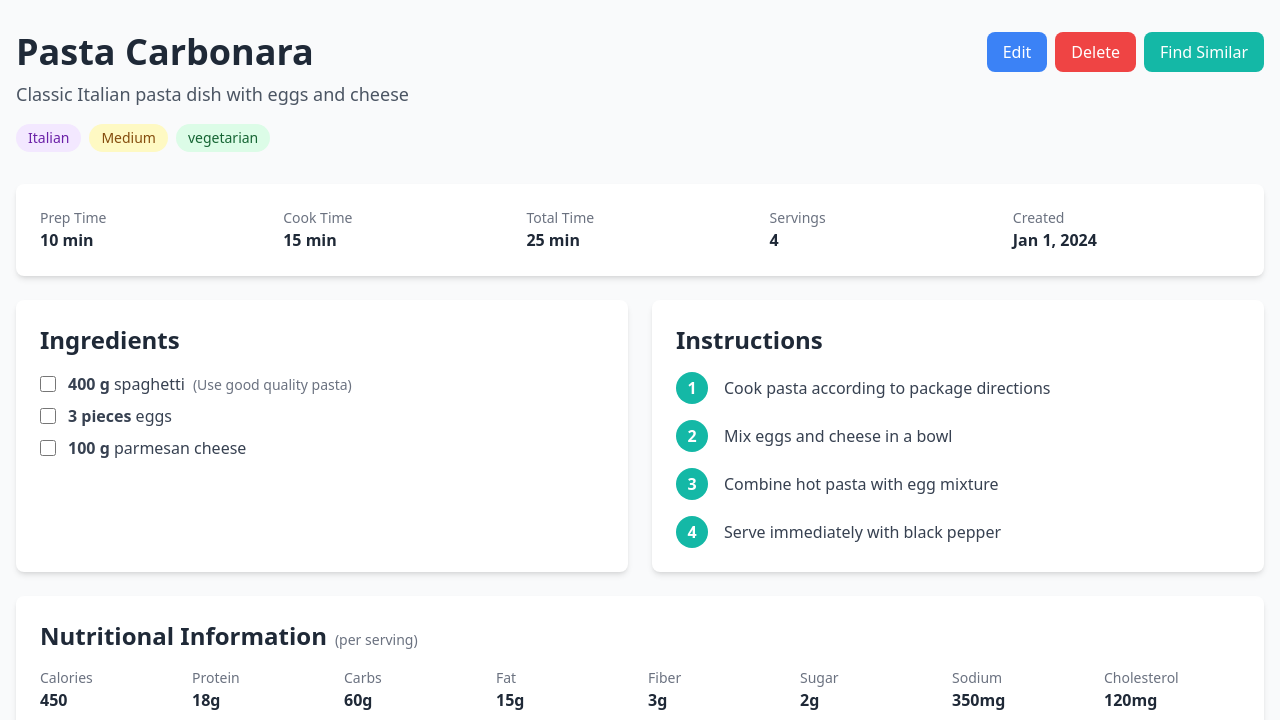
it: RecipeDetailPage › Delete Functionality › should close modal when cancel button clicked
This screenshot has width=1280, height=720.
expect the heading "Pasta Carbonara" is shown: met, box [16,27,314,76]
# Open modal
Step 1. Click the button "Delete" → (1096, 52), box [1055,32,1136,72]
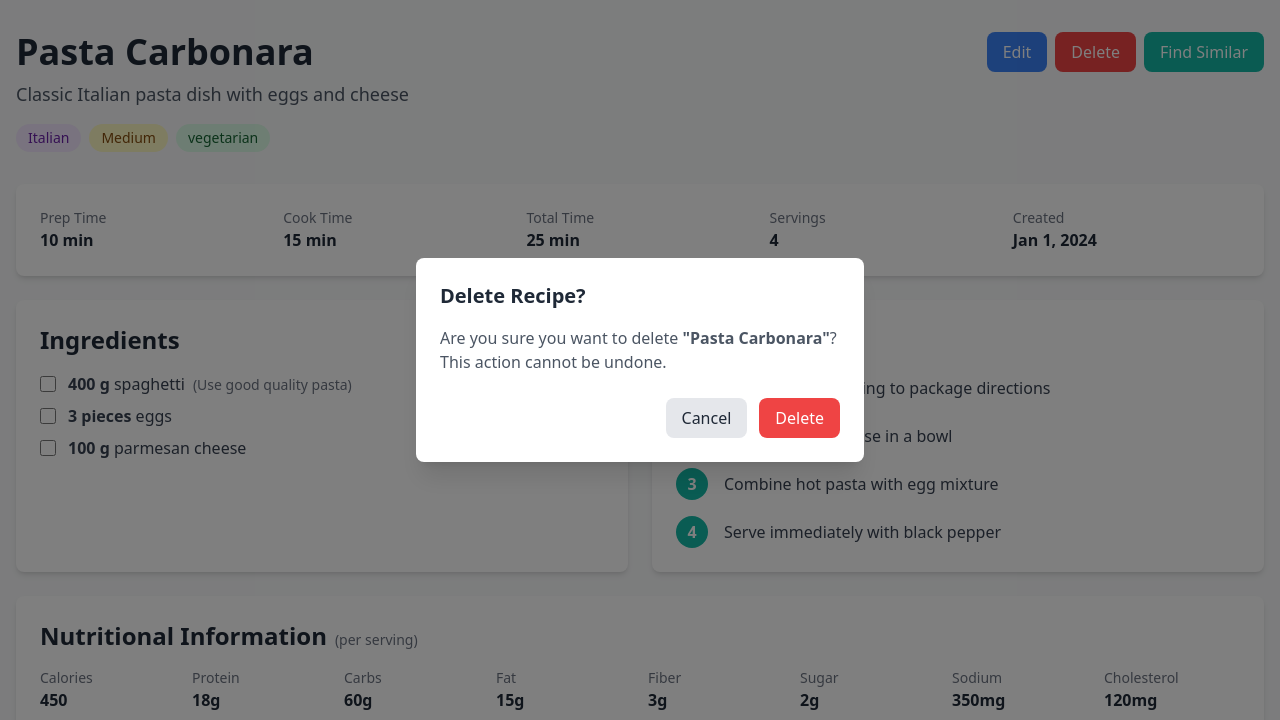
expect the heading "Delete Recipe?" is shown: met, box [440,282,586,309]
# Close modal
Step 2. Click the button "Cancel" → (706, 418), box [666,398,747,438]
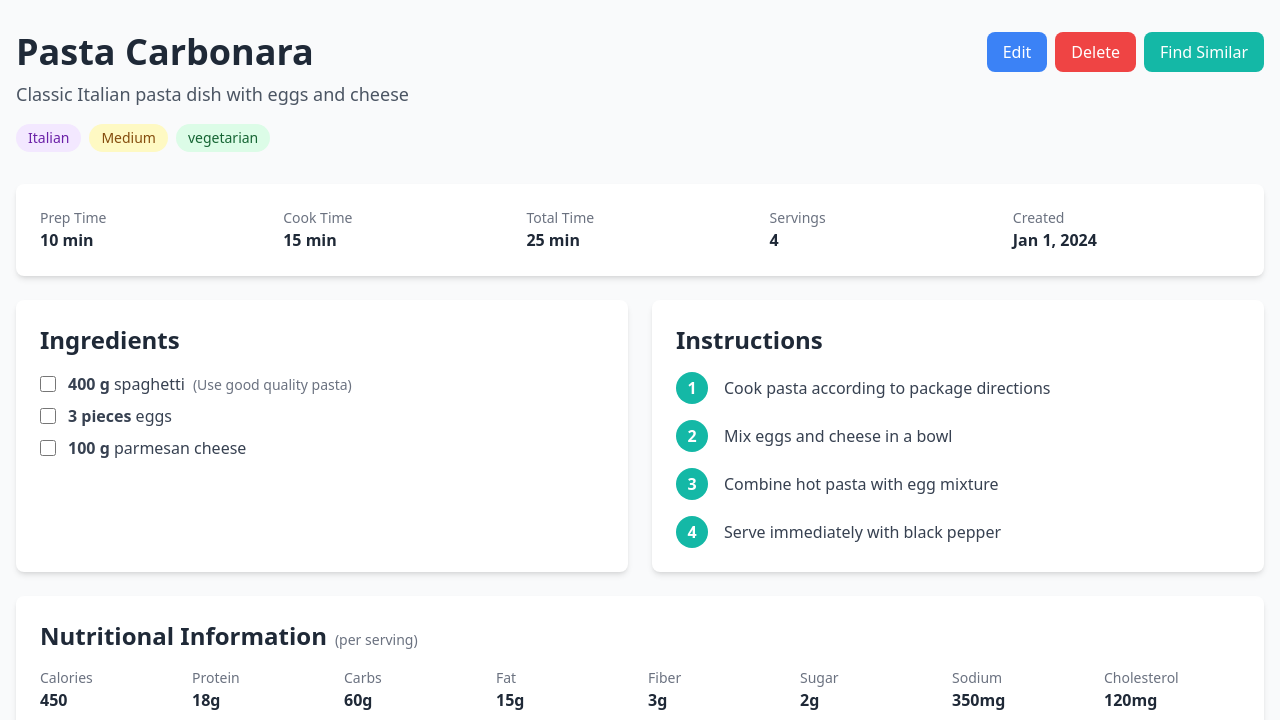
expect the heading "Delete Recipe?" is gone: met
